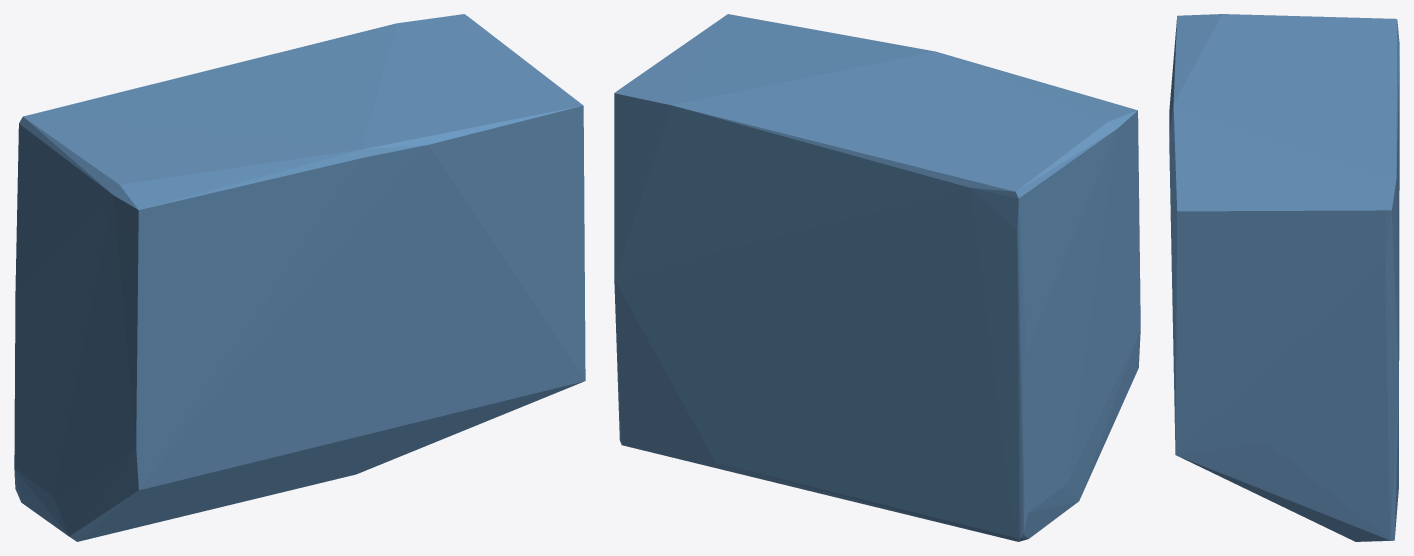
File: box_cardboard_open_a04.glb
3 renders of one model, left to right at view 1: azimuth 30°, elevation 25°; view 2: azimuth 150°, elevation 25°; view 3: azimuth 270°, elevation 25°, orthographic. The views are drawn at different scales.
Visible parts, largest first — view 1: geometry_0; view 2: geometry_0; view 3: geometry_0.
Boxes of the visible parts, left/top/right/bottom form: geometry_0: left=14, top=14, right=585, bottom=541; geometry_0: left=614, top=14, right=1140, bottom=541; geometry_0: left=1169, top=14, right=1399, bottom=541.
Bounding box in the file's own units: 0.4796 × 0.3978 × 0.2395.
